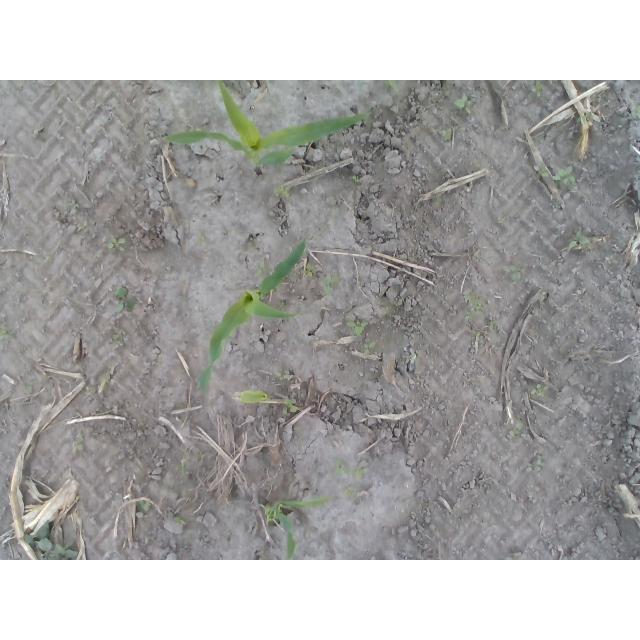Maize: (160, 81, 372, 176), (200, 238, 309, 395), (261, 496, 329, 560), (239, 390, 272, 406)
Weeds: (23, 520, 78, 560), (551, 166, 578, 191), (463, 292, 485, 320), (114, 287, 136, 313), (321, 271, 341, 298), (108, 233, 129, 256), (567, 230, 589, 250), (344, 320, 368, 337), (454, 94, 473, 114), (501, 264, 523, 281), (511, 416, 525, 441), (272, 184, 292, 200), (72, 432, 85, 456), (335, 457, 352, 475), (528, 384, 544, 401), (352, 464, 369, 480), (283, 399, 298, 417), (271, 369, 289, 384), (301, 263, 317, 278), (0, 328, 16, 343), (530, 80, 544, 97), (364, 337, 378, 354), (527, 460, 545, 473), (196, 231, 209, 249), (135, 499, 151, 513), (113, 327, 127, 342), (255, 260, 267, 277), (534, 166, 550, 177), (439, 127, 451, 141), (343, 486, 358, 497), (382, 80, 400, 89), (631, 103, 640, 119), (64, 200, 80, 209), (175, 516, 186, 527), (351, 175, 361, 186), (496, 216, 507, 225), (408, 353, 417, 364), (583, 112, 593, 121), (24, 383, 32, 393), (79, 224, 88, 232), (489, 319, 496, 326), (576, 117, 581, 123)
